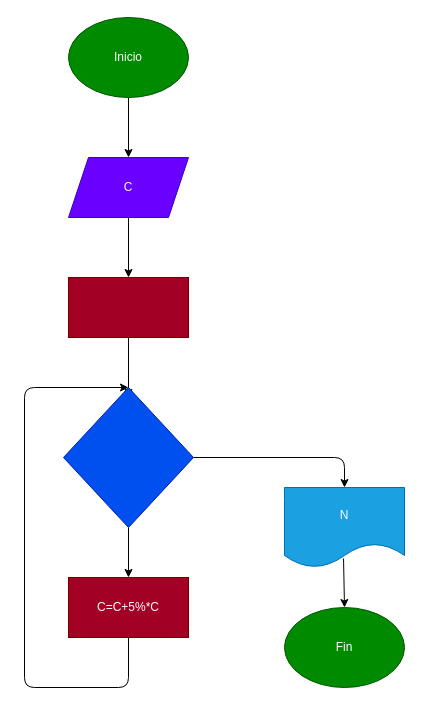
Some shapes in this 422 by 713 pixel diagram are drawn without their labels. The box of each missing label's shape, as (x1, y1, x2, y2) in pixels:
C<D: (62, 386, 194, 528)
D=2*C N=0: (68, 276, 188, 338)
